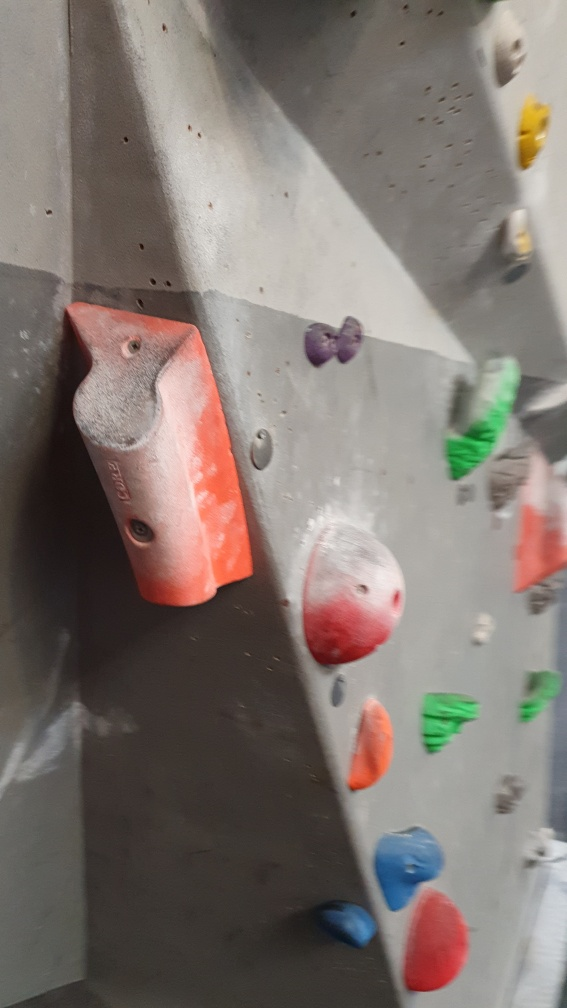Hand Start: (246, 427, 278, 473), (328, 674, 348, 709)
Jug: (442, 354, 525, 483), (372, 827, 450, 909), (416, 690, 482, 757), (517, 669, 564, 727)
Pinch: (61, 295, 255, 611)
Sloper: (298, 520, 408, 665), (396, 887, 470, 998)
